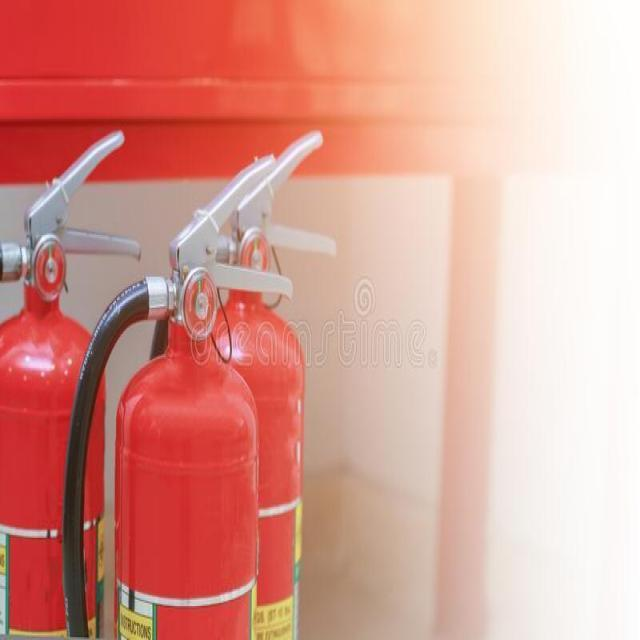fire_extinguisher: (57, 148, 296, 638), (124, 116, 340, 638), (0, 120, 142, 638)
